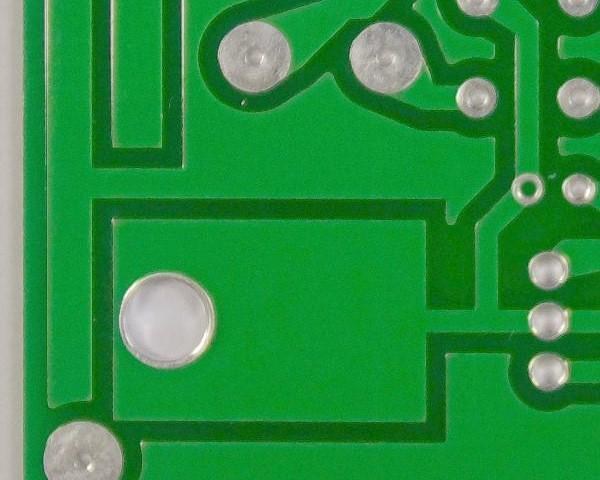missing hole: (507, 170, 551, 211)
